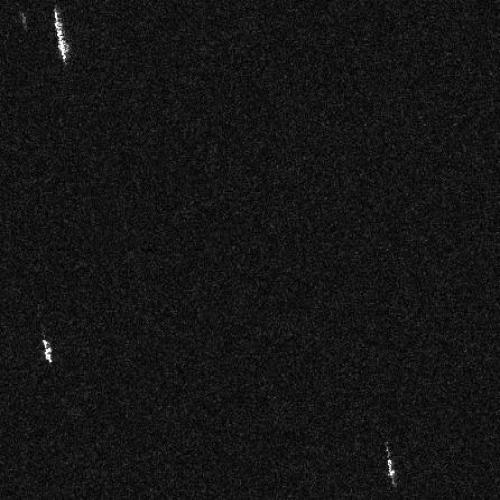ship: (52, 10, 70, 62), (385, 444, 396, 485), (41, 337, 54, 365)
